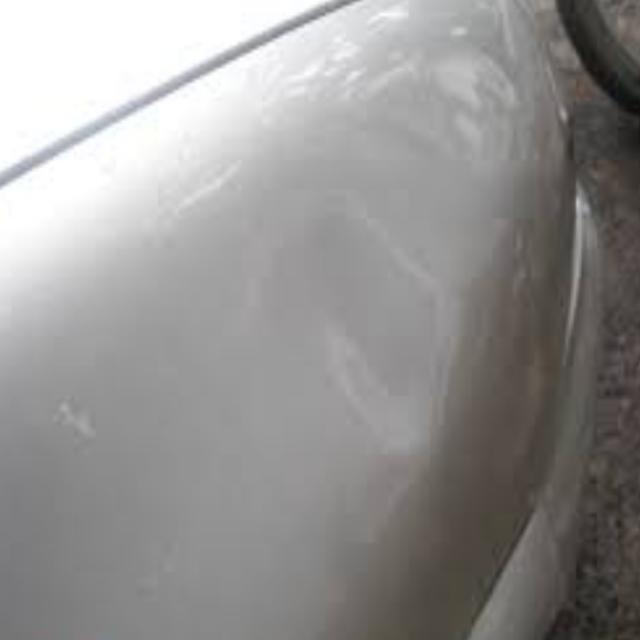dents: (316, 222, 443, 445)
